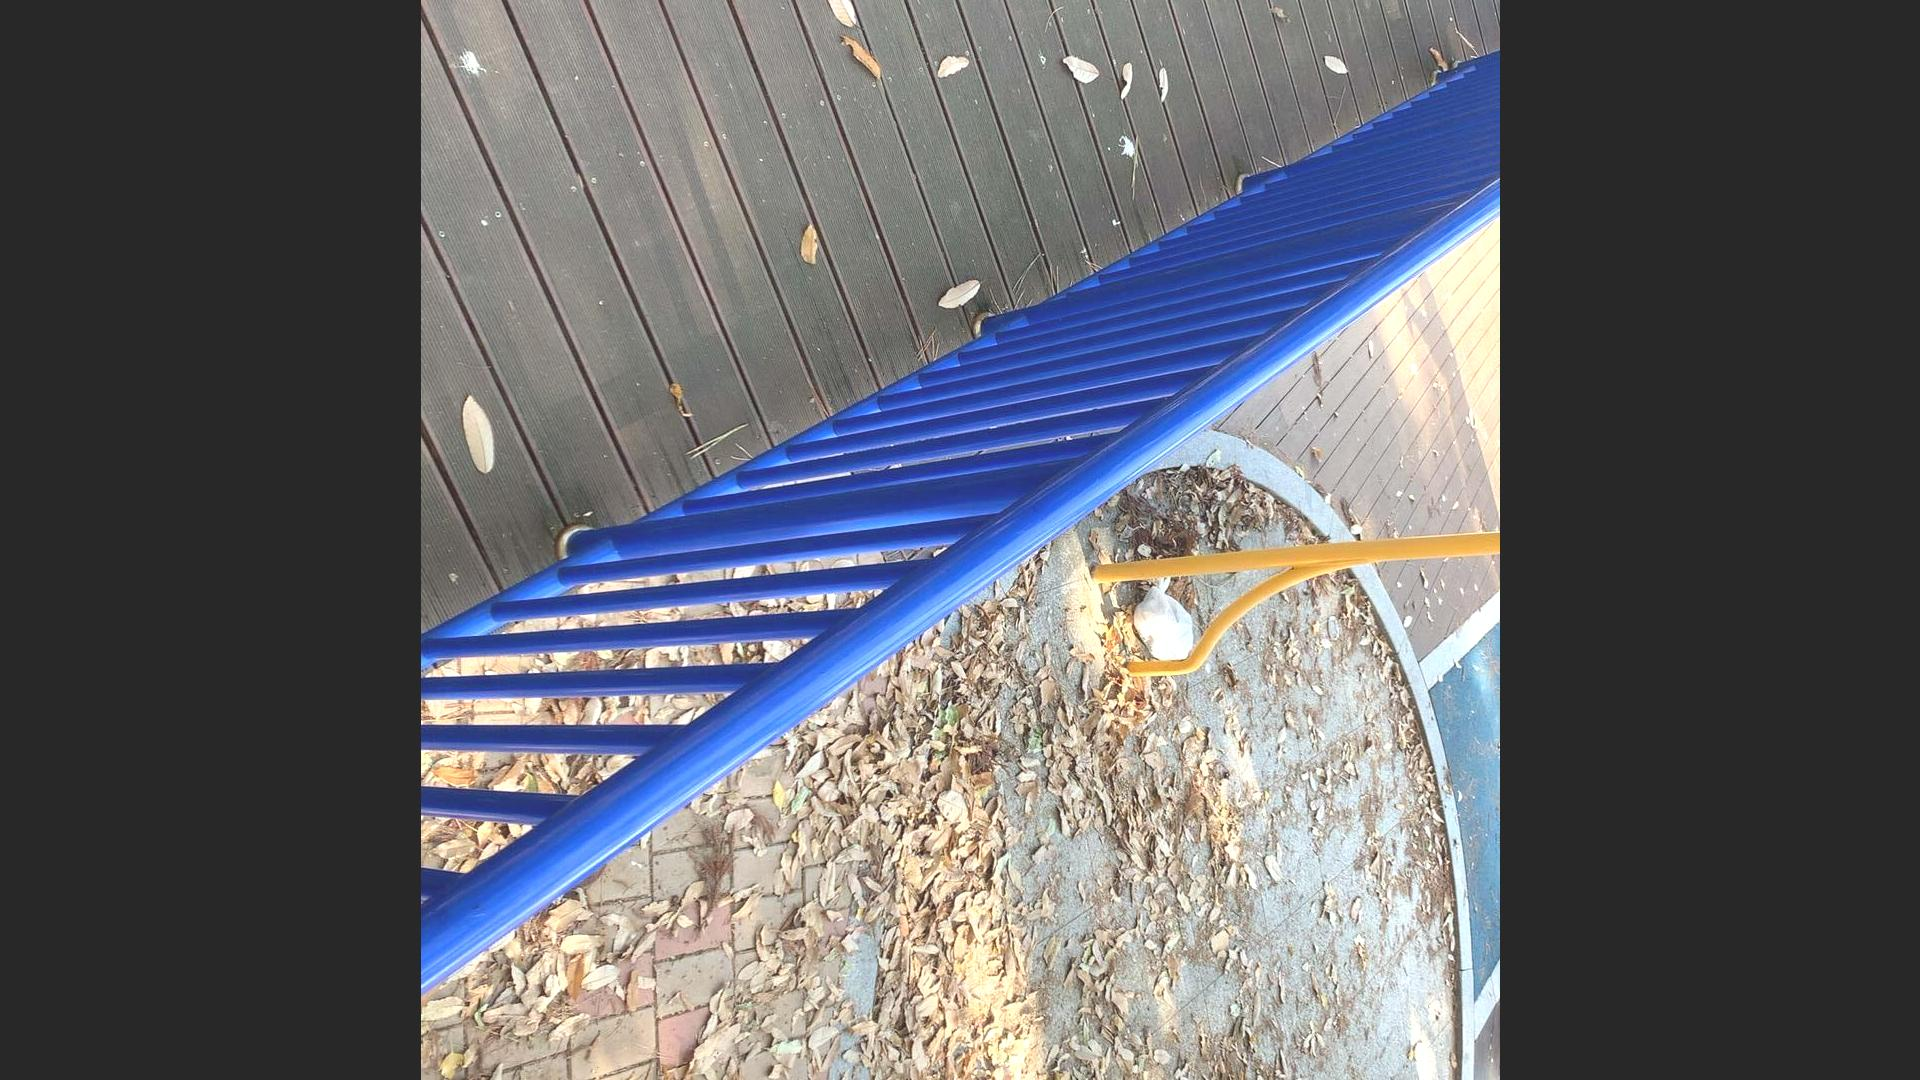white_bag: (1131, 568, 1197, 663)
